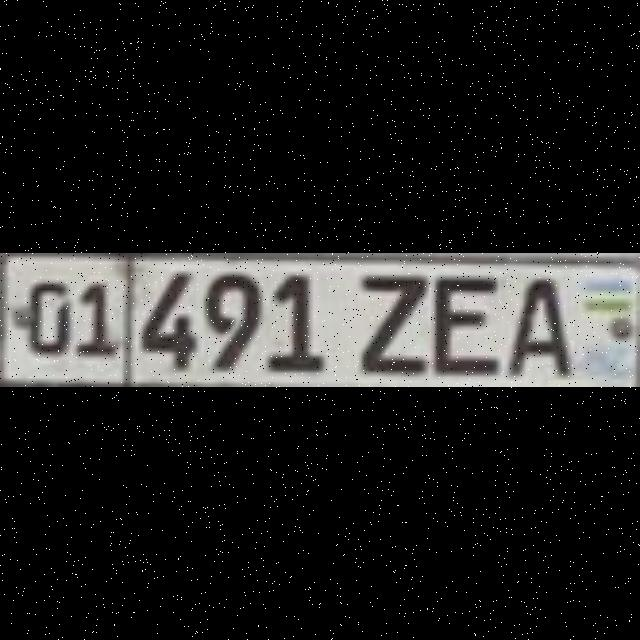0: (22, 276, 62, 354)
1: (262, 272, 316, 368), (70, 280, 108, 354)
4: (135, 269, 189, 365)
9: (196, 269, 258, 369)
A: (505, 276, 567, 372)
E: (428, 272, 494, 372)
Z: (354, 272, 420, 372)
